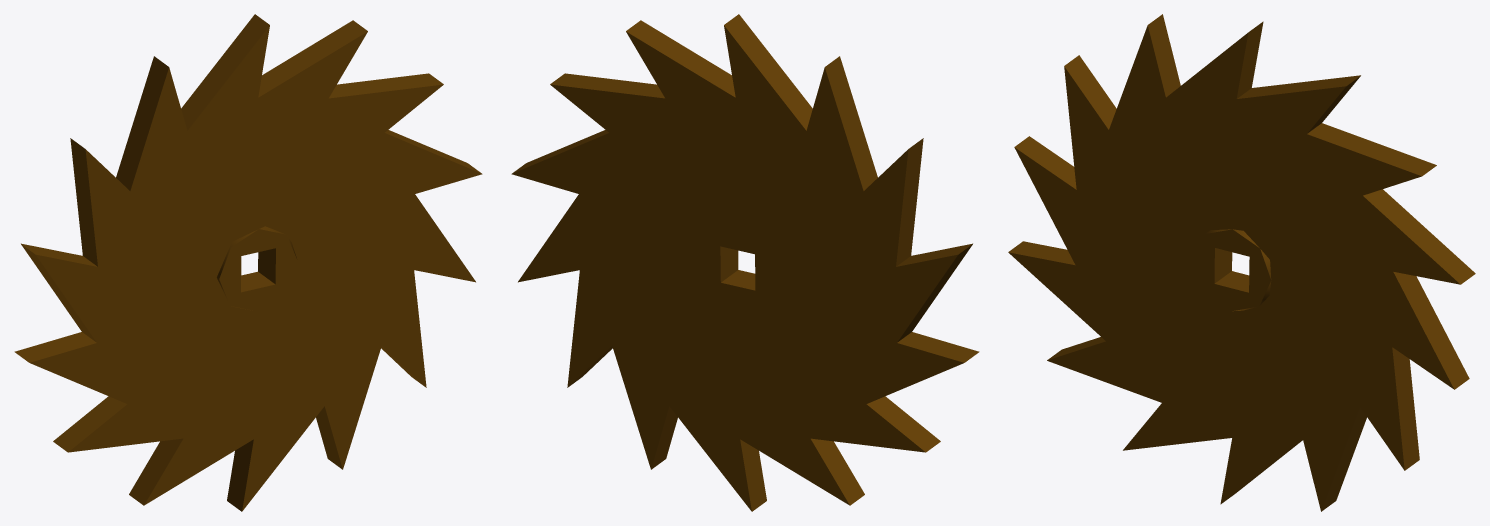
Rendered from Roue dente etoile_Heures.obj.
The picture shows the model from 3 angles, left to right: view 1: azimuth 30°, elevation 25°; view 2: azimuth 150°, elevation 25°; view 3: azimuth 330°, elevation 25°; orthographic projection.
Visible parts, largest first — view 1: Face_1, Face_32, Face_30, Face_28, Face_4, Face_26, Face_6, Face_21, Face_19, Face_23, Face_17, Face_24 (+2 smaller); view 2: Face_2, Face_30, Face_28, Face_4, Face_26, Face_6, Face_21, Face_19, Face_23, Face_17, Face_24, Face_15 (+2 smaller); view 3: Face_1, Face_32, Face_8, Face_10, Face_6, Face_12, Face_27, Face_29, Face_25, Face_14, Face_4, Face_3 (+1 smaller).
Part boxes in pixels (left/top/right/bottom): Face_1: left=30, top=25, right=482, bottom=511; Face_32: left=219, top=229, right=297, bottom=311; Face_30: left=181, top=14, right=269, bottom=130; Face_28: left=116, top=56, right=168, bottom=190; Face_4: left=258, top=20, right=367, bottom=97; Face_26: left=70, top=138, right=97, bottom=266; Face_6: left=329, top=73, right=443, bottom=98; Face_21: left=53, top=396, right=127, bottom=452; Face_19: left=129, top=438, right=182, bottom=505; Face_23: left=14, top=332, right=96, bottom=362; Face_17: left=227, top=439, right=253, bottom=511; Face_24: left=21, top=244, right=96, bottom=342; Face_2: left=511, top=25, right=963, bottom=511; Face_30: left=724, top=14, right=812, bottom=130; Face_28: left=825, top=56, right=877, bottom=190; Face_4: left=626, top=20, right=735, bottom=97; Face_26: left=896, top=138, right=923, bottom=266; Face_6: left=550, top=73, right=664, bottom=98; Face_21: left=866, top=396, right=940, bottom=452; Face_19: left=811, top=438, right=864, bottom=505; Face_23: left=897, top=332, right=979, bottom=362; Face_17: left=740, top=439, right=766, bottom=511; Face_24: left=897, top=244, right=972, bottom=342; Face_15: left=651, top=406, right=677, bottom=469; Face_1: left=1008, top=25, right=1460, bottom=511; Face_32: left=1193, top=229, right=1271, bottom=311; Face_8: left=1363, top=189, right=1475, bottom=284; Face_10: left=1393, top=272, right=1469, bottom=389; Face_6: left=1307, top=123, right=1436, bottom=176; Face_12: left=1392, top=347, right=1419, bottom=470; Face_27: left=1064, top=55, right=1116, bottom=129; Face_29: left=1147, top=14, right=1180, bottom=97; Face_25: left=1014, top=136, right=1076, bottom=189; Face_14: left=1321, top=407, right=1366, bottom=511; Face_4: left=1237, top=75, right=1360, bottom=98; Face_3: left=1236, top=21, right=1263, bottom=98.
Bounding box in the file's own units: 0.0432 × 0.0437 × 0.0029.
